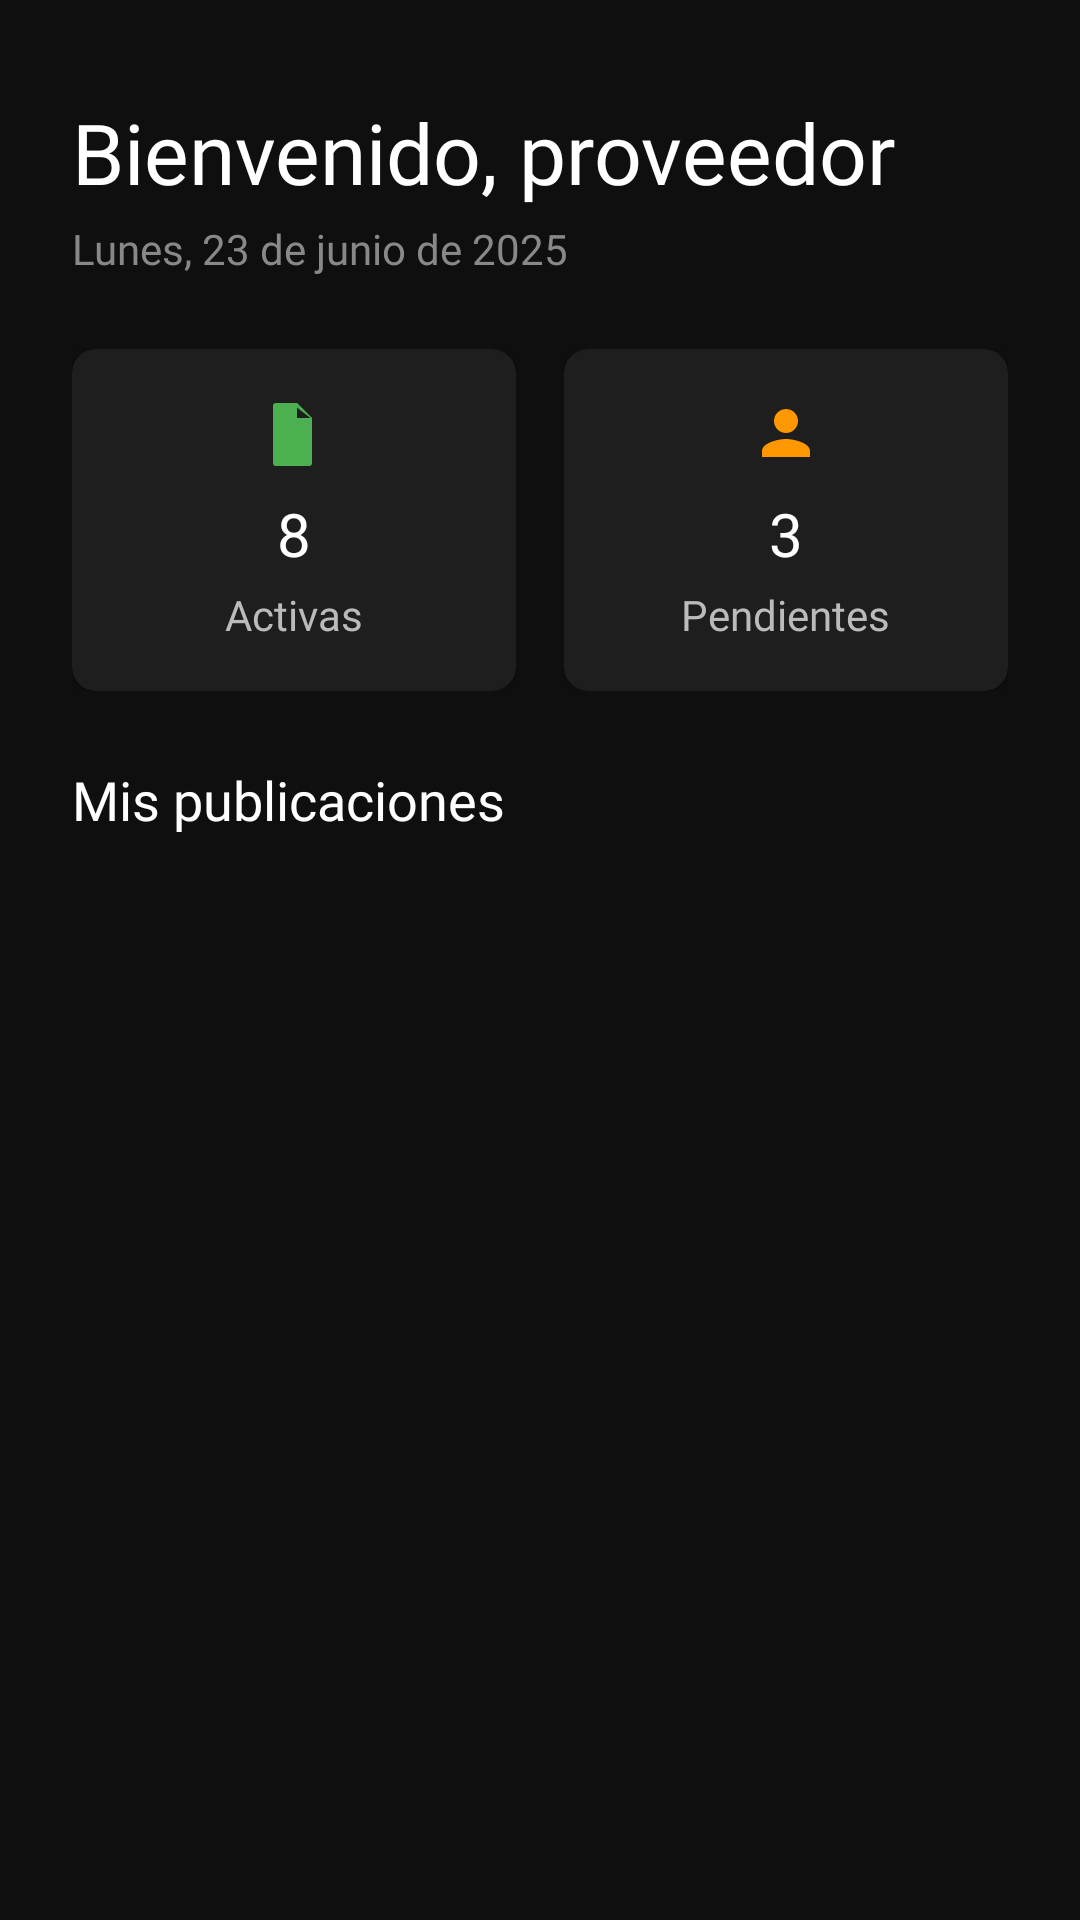

Point at icon controls on the screen. Image size 1080×1920, points as point (x, y).
provider: point (786, 433)
publicacion: point (292, 434)
